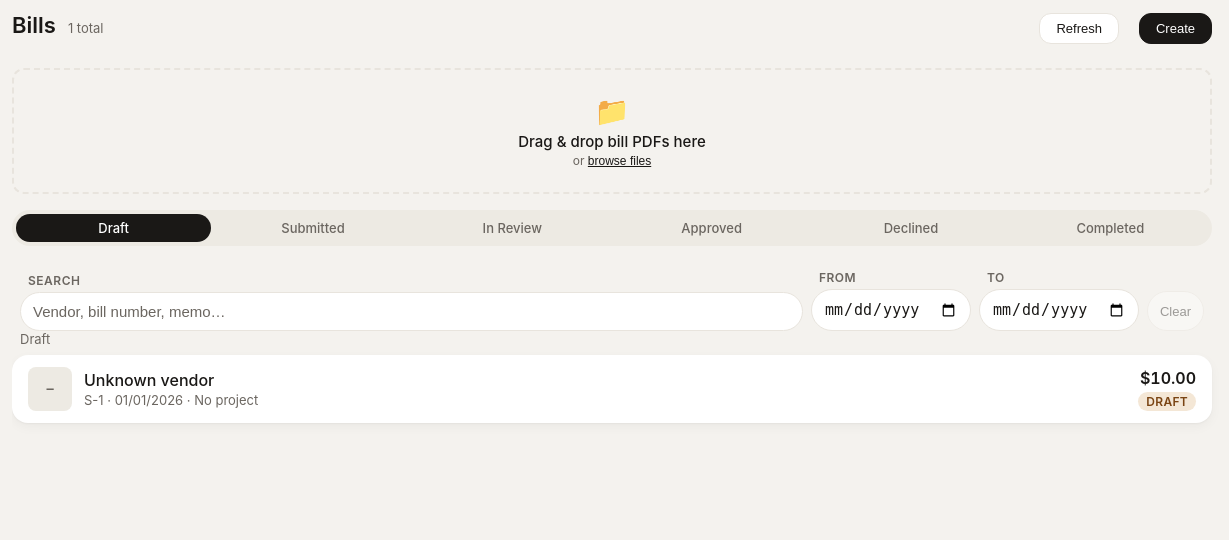
BillList refresh UX (U-705) › shows an inline error banner on refresh failure while keeping chrome visible
Click the button titled "Fetch the latest bills from the server": (1079,28) [1039, 13, 1119, 44]
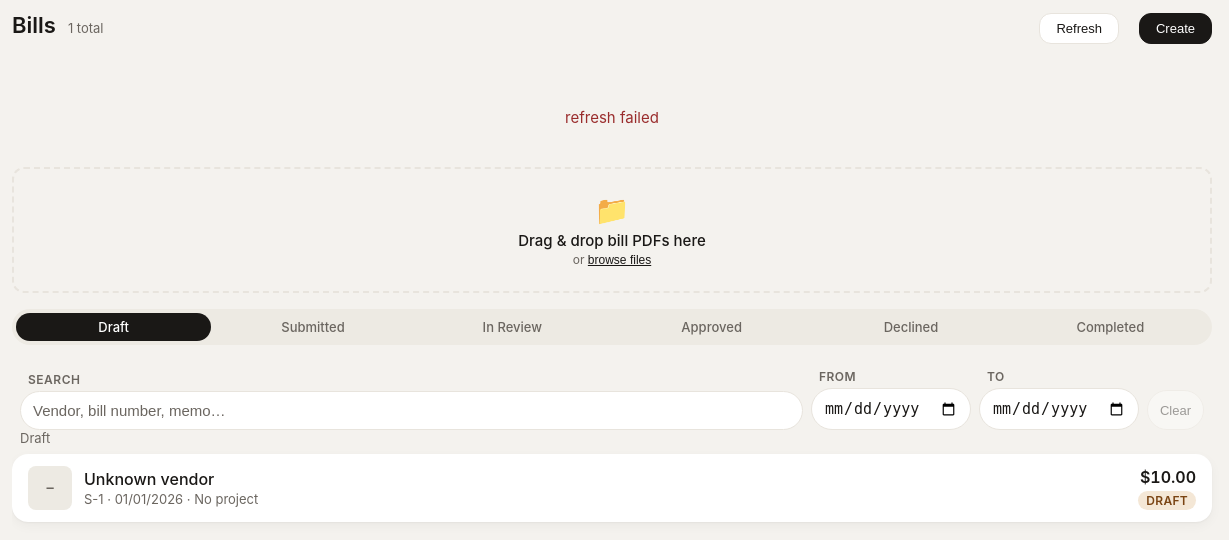
Expected: the element with class "drop-zone" is shown, [12, 167, 1212, 293]
Result: the message "refresh failed" is shown at [565, 108, 659, 127]
